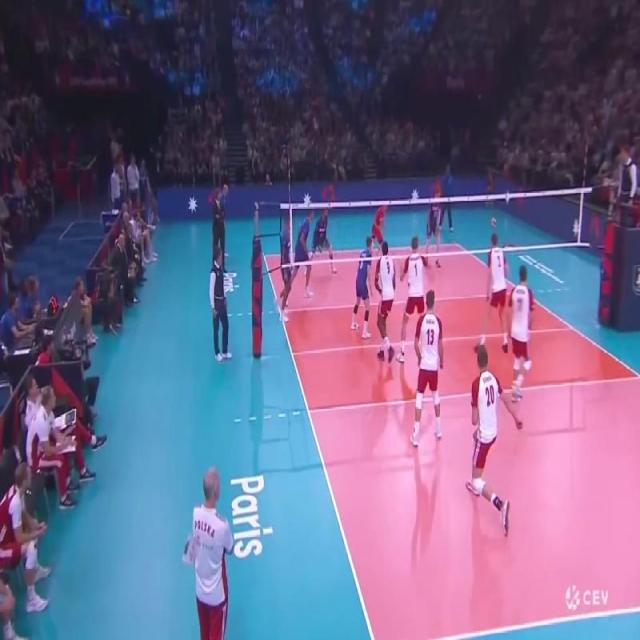volleyball: (491, 218, 496, 228)
